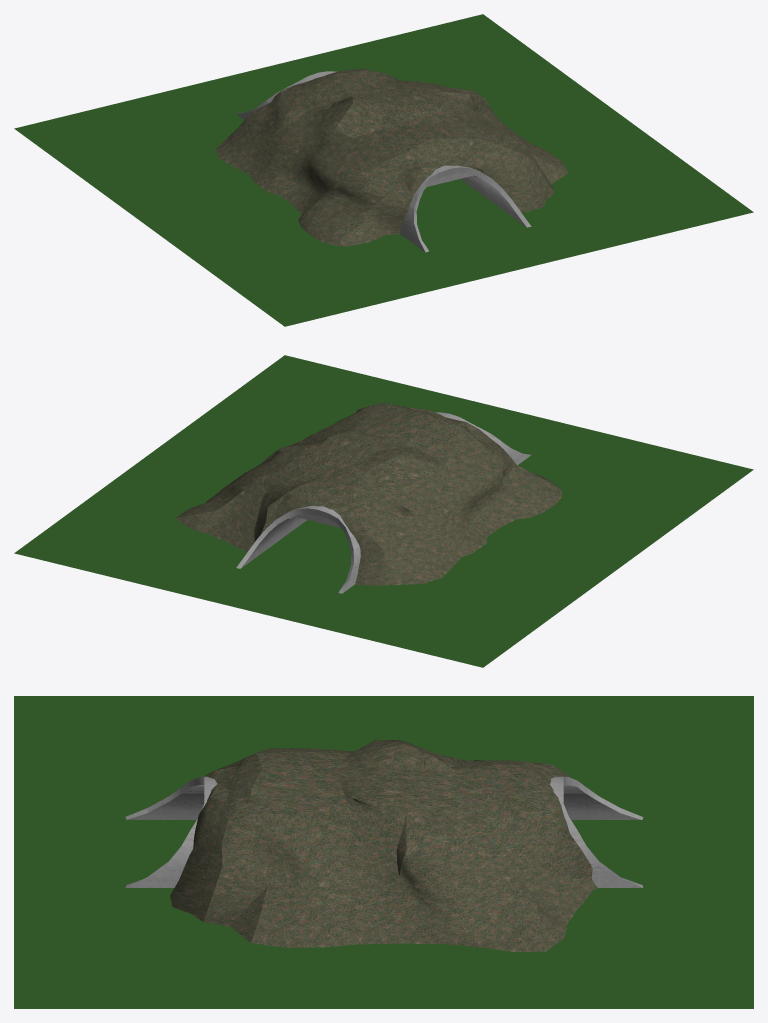
Rendered from road-tunnel.fbx.
The picture shows the model from 3 angles, top to bottom: view 1: azimuth 30°, elevation 25°; view 2: azimuth 150°, elevation 25°; view 3: azimuth 270°, elevation 25°; orthographic projection. The views are drawn at different scales.
Parts seen in each view (by area): view 1: 5, 22, 45; view 2: 5, 22, 45; view 3: 5, 22, 45.
Boxes of the visible parts, bbox=[...] form: 5: bbox=[14, 14, 753, 326]; 22: bbox=[215, 68, 568, 246]; 45: bbox=[236, 71, 531, 252]; 5: bbox=[14, 355, 753, 667]; 22: bbox=[176, 403, 562, 585]; 45: bbox=[236, 412, 531, 593]; 5: bbox=[14, 696, 753, 1008]; 22: bbox=[170, 740, 597, 951]; 45: bbox=[125, 776, 643, 887].
Size of the model in its own units: 5580 by 1128 by 5580.
5 materials, 3 textured.
